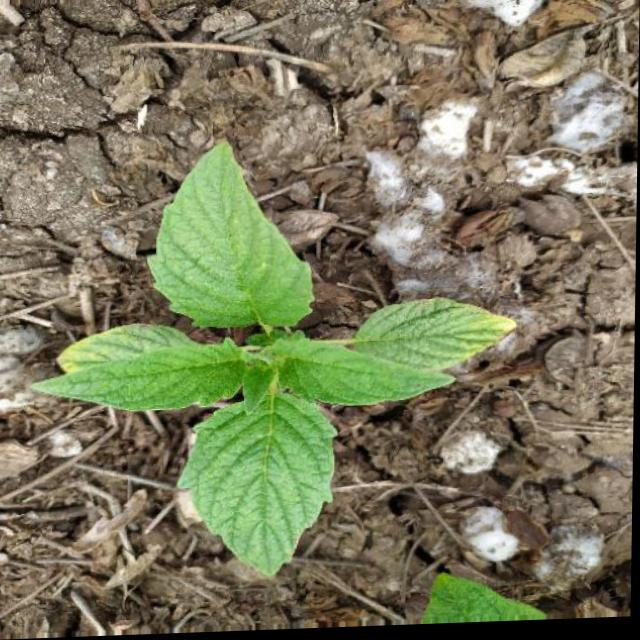crop: (27, 139, 532, 574)
